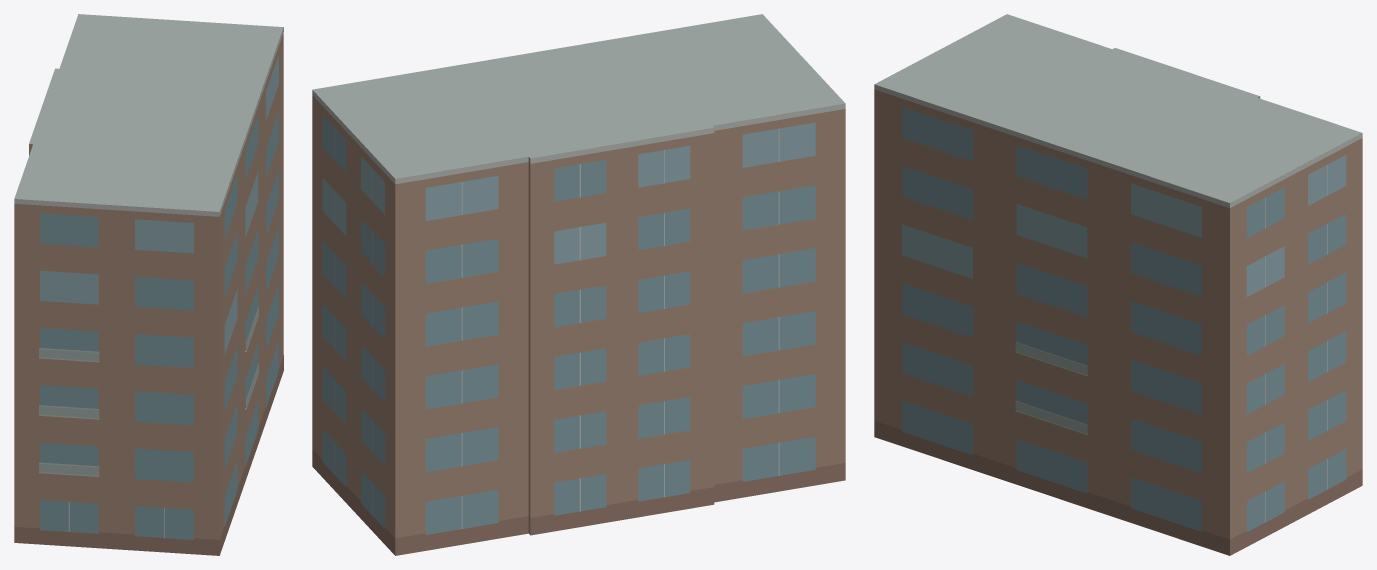
The model's file is survey-upis-33010686.glb.
3 views of the same model, side by side, from view 1: azimuth 30°, elevation 25°; view 2: azimuth 150°, elevation 25°; view 3: azimuth 270°, elevation 25° (orthographic). The views are drawn at different scales.
Parts seen in each view (by area): view 1: survey-upis-33010686.tmp; view 2: survey-upis-33010686.tmp; view 3: survey-upis-33010686.tmp.
Boxes of the visible parts, x1,y1,x2,y2 form: survey-upis-33010686.tmp: [14, 14, 283, 555]; survey-upis-33010686.tmp: [312, 14, 845, 555]; survey-upis-33010686.tmp: [874, 14, 1362, 555].
Size of the model in its own units: 19.97 by 17.35 by 21.79.
